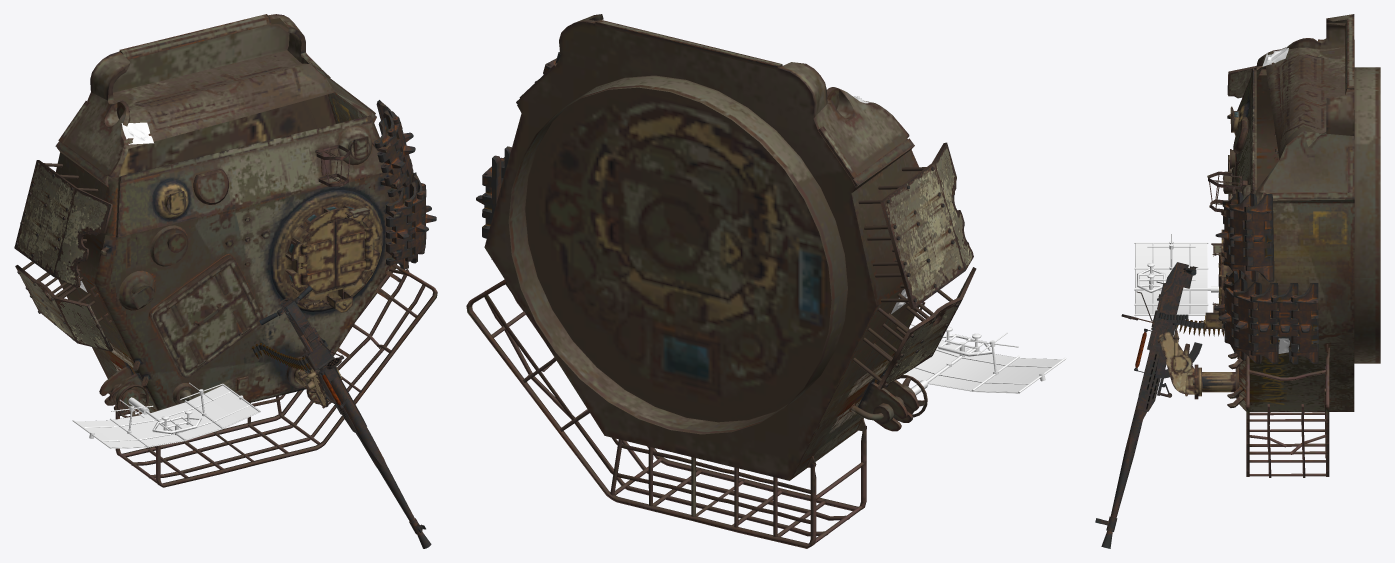
The model's file is Turret_02.glb.
The picture shows the model from 3 angles, left to right: view 1: azimuth 30°, elevation 25°; view 2: azimuth 150°, elevation 25°; view 3: azimuth 270°, elevation 25°; orthographic projection. The views are drawn at different scales.
Visible parts, largest first — view 1: set_0_group_0, set_0_group_1, set_0_group_2, set_0_group_3; view 2: set_0_group_0, set_0_group_1, set_0_group_2; view 3: set_0_group_0, set_0_group_1, set_0_group_2, set_0_group_3.
Part boxes in pixels (x1,y1,x2,y2): set_0_group_0: (15,14,437,487); set_0_group_1: (14,160,431,548); set_0_group_2: (72,382,260,448); set_0_group_3: (79,122,153,292); set_0_group_0: (466,14,960,548); set_0_group_1: (877,142,976,389); set_0_group_2: (903,313,1066,395); set_0_group_0: (1200,14,1380,477); set_0_group_1: (1095,66,1256,548); set_0_group_2: (1134,234,1218,316); set_0_group_3: (1262,46,1298,353).
Bounding box in the file's own units: 3.03 × 3.35 × 1.95.
Materials: 4 (2 with a texture image).
